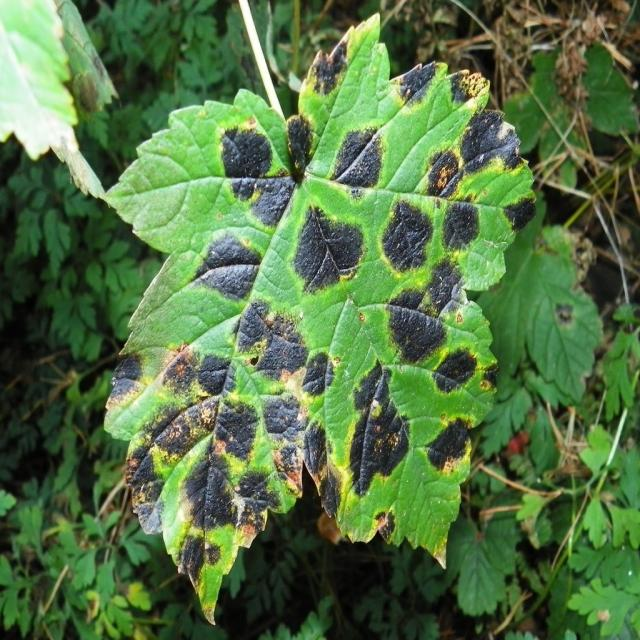Tar_Spot: (98, 12, 538, 626)
